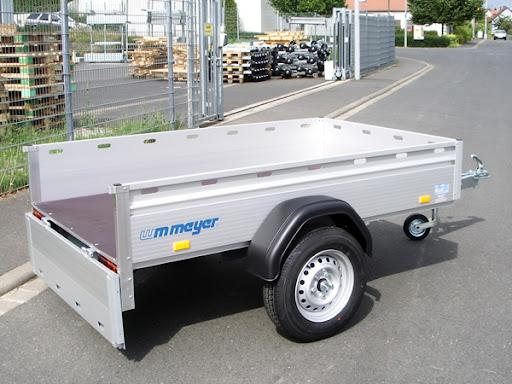trailer: (25, 116, 465, 270)
